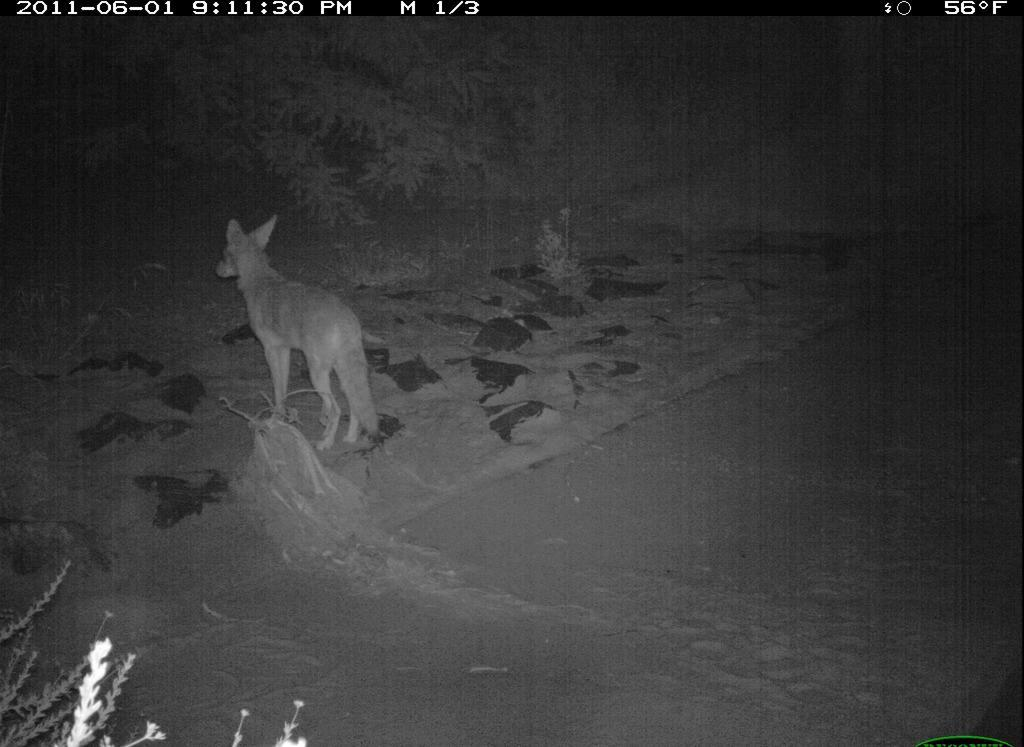coyote: (213, 212, 391, 457)
